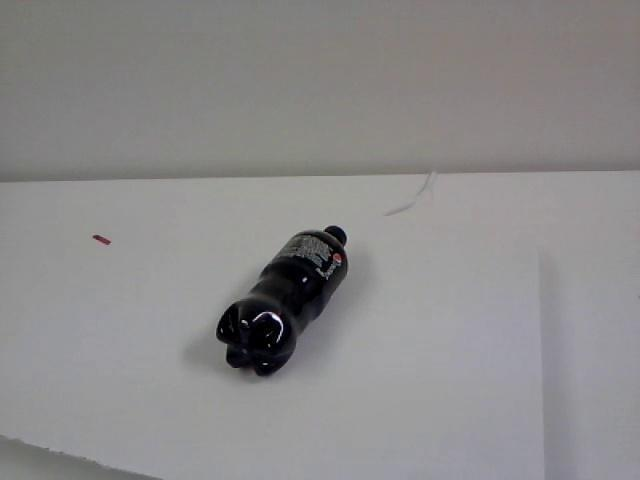bottle-plastic: (210, 217, 358, 385)
